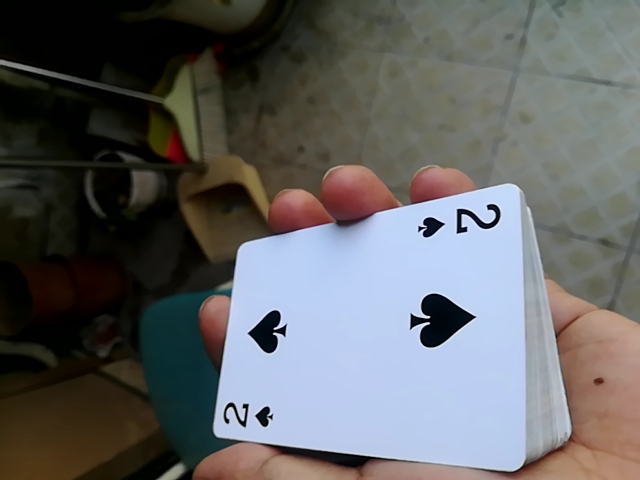ht 2: (211, 180, 536, 471)
